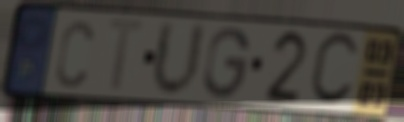2: (263, 27, 312, 107)
C: (306, 30, 362, 111), (53, 18, 96, 90)
G: (201, 25, 253, 101)
T: (104, 15, 151, 96)
U: (148, 18, 209, 101)
